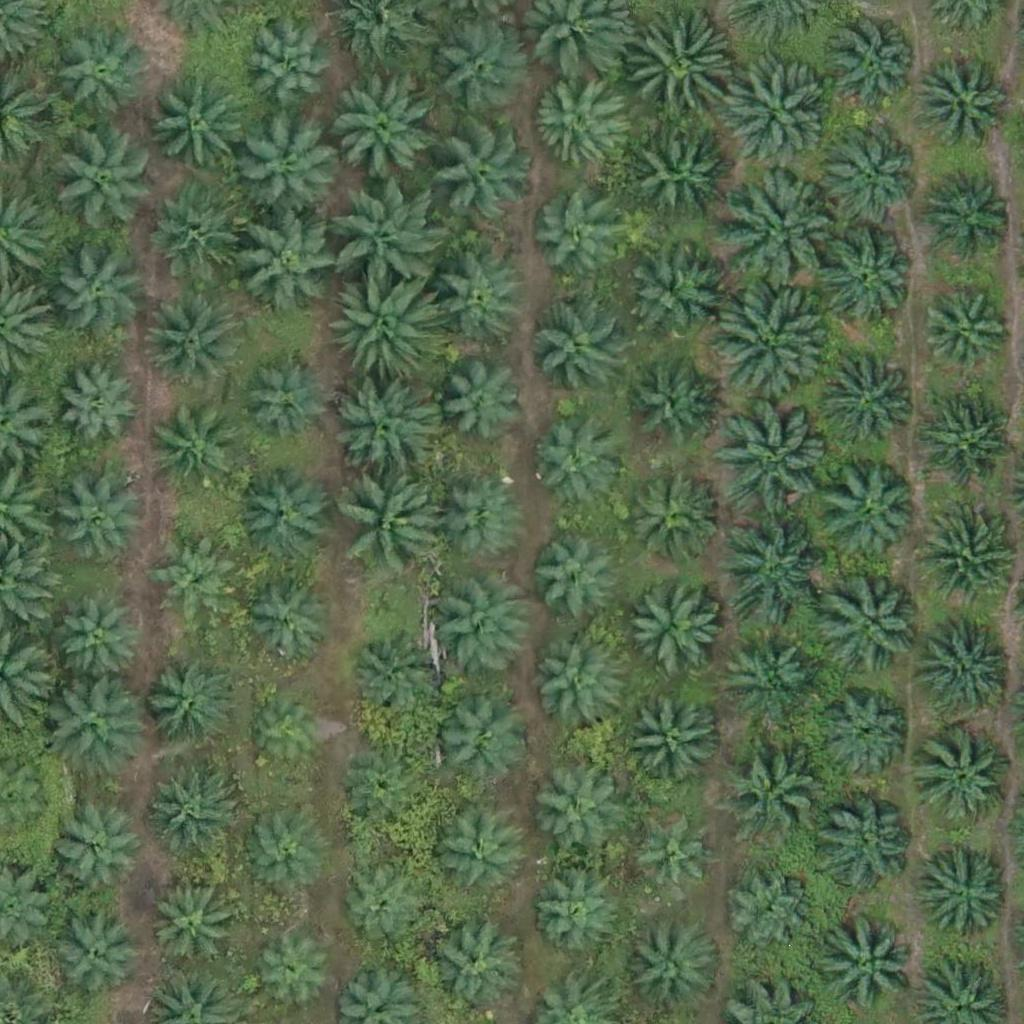Kelapa_Sawit: (49, 122, 162, 236), (712, 286, 825, 399), (725, 170, 838, 283), (716, 56, 829, 169), (330, 179, 443, 292), (620, 15, 732, 128), (713, 513, 825, 626), (719, 402, 831, 515), (613, 238, 725, 351), (327, 272, 439, 385), (49, 675, 149, 776), (342, 477, 442, 578), (349, 625, 449, 726), (422, 921, 522, 1022), (527, 758, 627, 859), (622, 692, 722, 793), (624, 573, 724, 674), (620, 464, 720, 565), (719, 625, 819, 726), (722, 736, 822, 837), (816, 459, 916, 560), (822, 913, 922, 1014), (914, 727, 1014, 828), (915, 503, 1015, 604), (917, 391, 1017, 492), (816, 224, 916, 325), (814, 350, 914, 451), (634, 130, 734, 231), (526, 298, 626, 399), (532, 187, 632, 288), (432, 126, 532, 227), (429, 248, 529, 349), (331, 74, 431, 175), (238, 118, 338, 219), (149, 75, 249, 176), (46, 21, 146, 121), (423, 16, 523, 116), (819, 19, 919, 119), (232, 468, 332, 568), (239, 572, 339, 672), (432, 579, 532, 679), (821, 578, 921, 678), (812, 795, 912, 895), (915, 843, 1015, 943), (922, 614, 1022, 714), (921, 162, 1021, 262), (913, 53, 1013, 153), (822, 126, 922, 226), (333, 380, 433, 480), (243, 217, 343, 317), (142, 292, 242, 392), (149, 184, 249, 284), (148, 664, 236, 753), (58, 599, 146, 687), (50, 810, 138, 898), (54, 911, 142, 999), (151, 407, 239, 495), (151, 534, 239, 622), (148, 770, 236, 858), (344, 749, 432, 837), (434, 476, 522, 564), (435, 697, 523, 785), (431, 809, 519, 897), (532, 534, 620, 622), (532, 641, 620, 729), (529, 874, 617, 962), (631, 918, 719, 1006), (726, 868, 814, 956), (919, 292, 1007, 380), (627, 359, 715, 447), (534, 82, 622, 170), (238, 360, 326, 448), (625, 811, 712, 900), (246, 30, 333, 118), (55, 478, 142, 566), (151, 884, 238, 972), (253, 926, 340, 1014), (241, 803, 328, 891), (340, 866, 427, 954), (821, 689, 908, 777), (525, 423, 612, 511), (436, 355, 523, 443), (56, 250, 143, 338), (57, 358, 144, 446), (251, 697, 326, 773)
